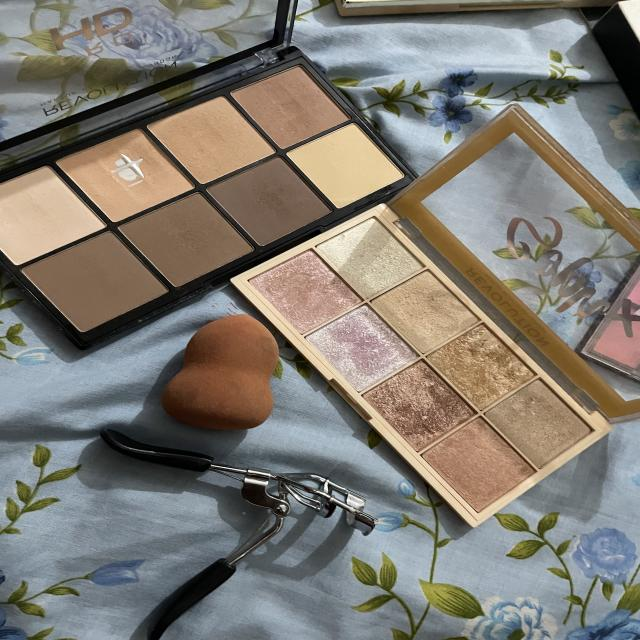beauty blender: (140, 307, 295, 441)
bronzer: (5, 223, 167, 347), (104, 186, 253, 283), (0, 158, 115, 280), (193, 148, 336, 245), (138, 90, 288, 182), (64, 126, 194, 219), (221, 64, 350, 150), (280, 116, 410, 200)
eyelash curler: (68, 430, 386, 640)
highlighter: (401, 412, 539, 520), (339, 356, 486, 448), (475, 369, 601, 475), (365, 261, 497, 358), (310, 209, 440, 306), (293, 291, 417, 389), (235, 244, 368, 334), (420, 316, 545, 406)
